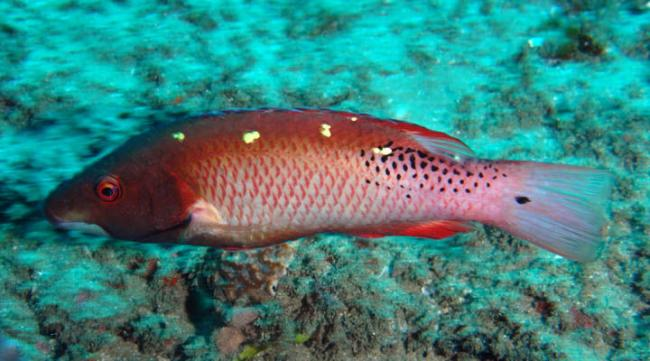fish: (45, 108, 607, 262)
